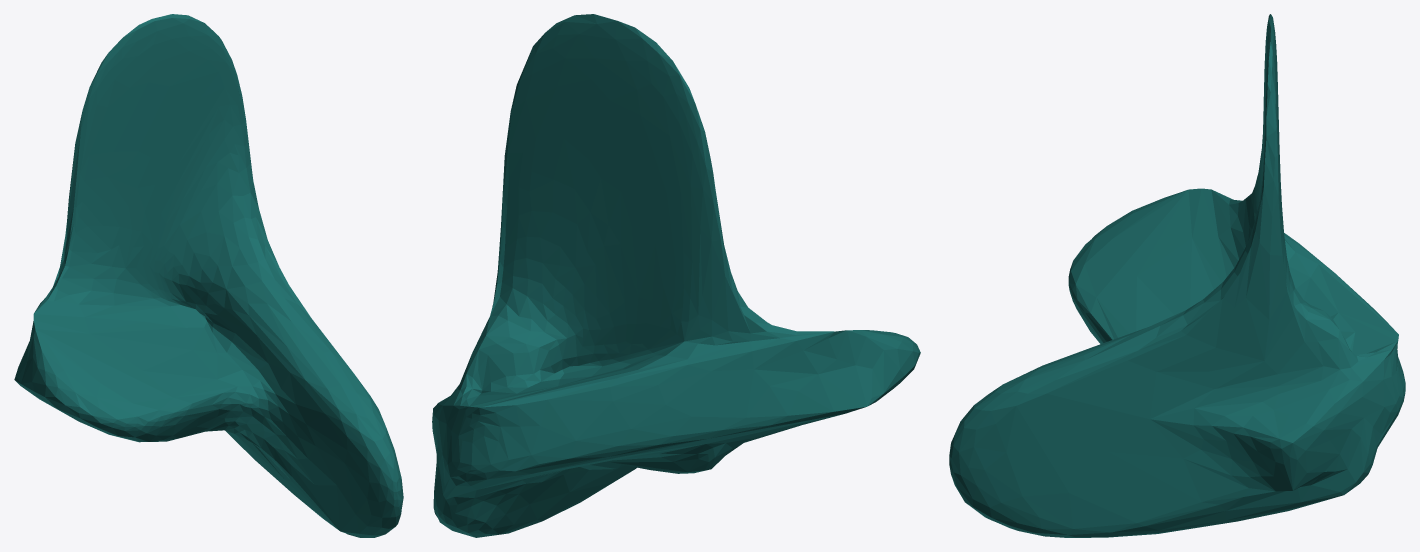
3 renders of one model, left to right at view 1: azimuth 30°, elevation 25°; view 2: azimuth 150°, elevation 25°; view 3: azimuth 270°, elevation 25°, orthographic. The views are drawn at different scales.
Visible parts, largest first — view 1: 524_Cube.2114; view 2: 524_Cube.2114; view 3: 524_Cube.2114.
Part boxes in pixels (x1,y1,x2,y2): 524_Cube.2114: (14, 14, 403, 537); 524_Cube.2114: (432, 14, 920, 537); 524_Cube.2114: (949, 14, 1405, 537).
Bounding box in the file's own units: 10.41 × 14.37 × 12.65.
